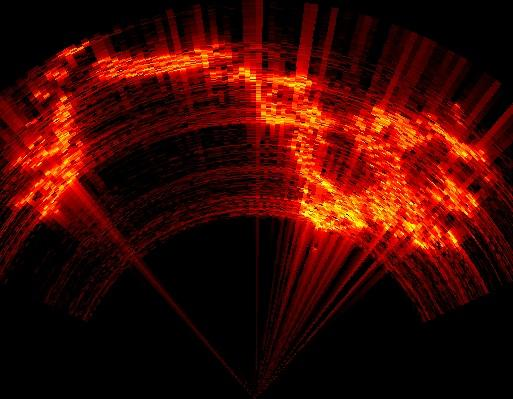shipwreck: (228, 66, 483, 248), (13, 95, 83, 215), (98, 50, 220, 79), (427, 171, 477, 215)
